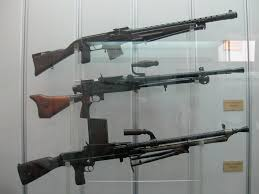gun: (15, 117, 250, 187), (29, 8, 239, 76), (29, 69, 244, 120)
